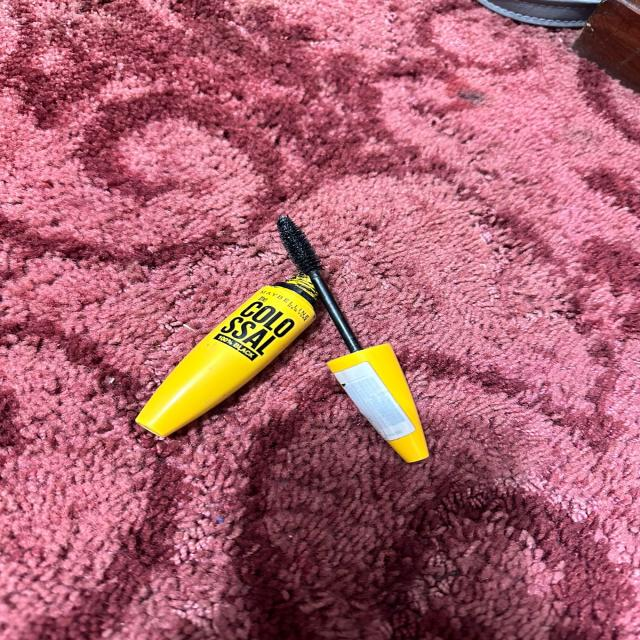mascara: (264, 209, 436, 467), (257, 206, 335, 295)
